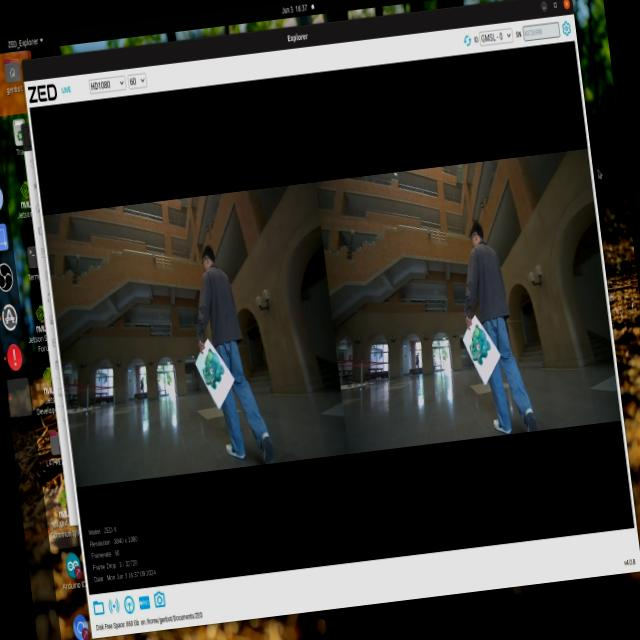green: (196, 348, 232, 404), (462, 322, 490, 370)
